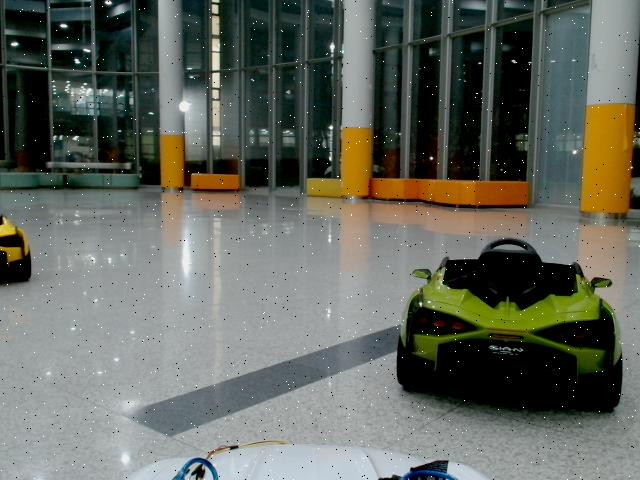car: (398, 239, 622, 412)
